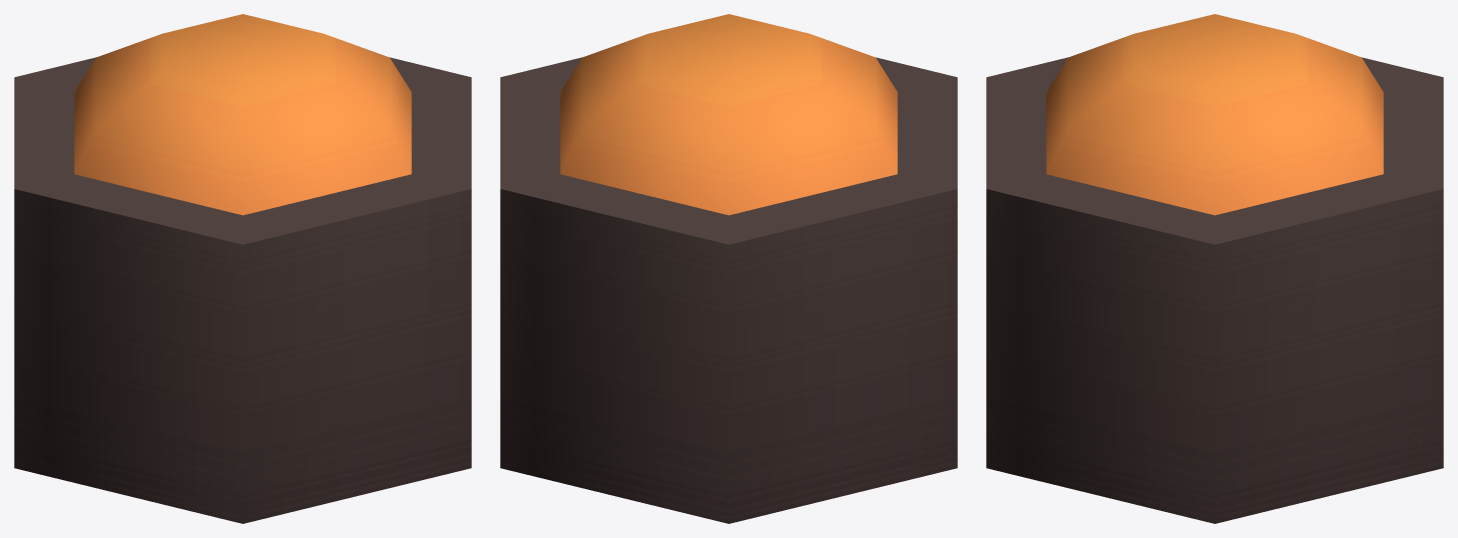
File: maki-roe.glb
The picture shows the model from 3 angles, left to right: view 1: azimuth 30°, elevation 25°; view 2: azimuth 150°, elevation 25°; view 3: azimuth 270°, elevation 25°; orthographic projection.
Visible parts, largest first — view 1: maki-roe; view 2: maki-roe; view 3: maki-roe.
Boxes of the visible parts, left/top/right/bottom form: maki-roe: left=14, top=14, right=471, bottom=523; maki-roe: left=500, top=14, right=957, bottom=523; maki-roe: left=986, top=14, right=1443, bottom=523.
Bounding box in the file's own units: 0.12 × 0.09 × 0.1039.
Materials: 1 (1 with a texture image).
